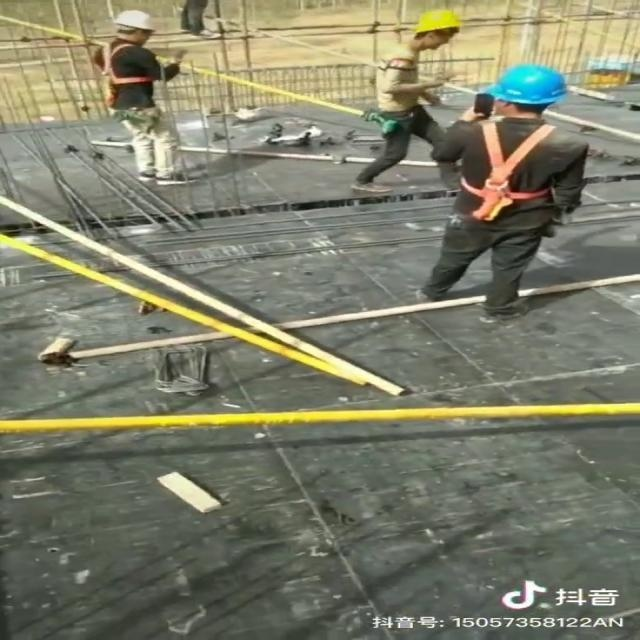Arnes_seguridad: (447, 113, 589, 222), (92, 40, 168, 113)
